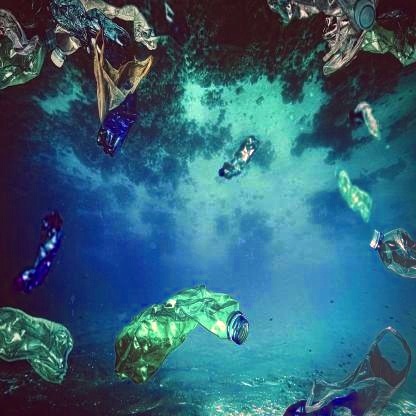can: (347, 1, 381, 40)
pbag: (301, 323, 410, 416), (94, 34, 149, 104)
pbottle: (112, 279, 250, 389), (1, 294, 78, 389), (12, 204, 67, 300), (94, 105, 154, 166), (366, 215, 416, 288), (212, 132, 262, 183), (34, 19, 81, 73), (350, 93, 391, 150), (335, 167, 373, 228)
